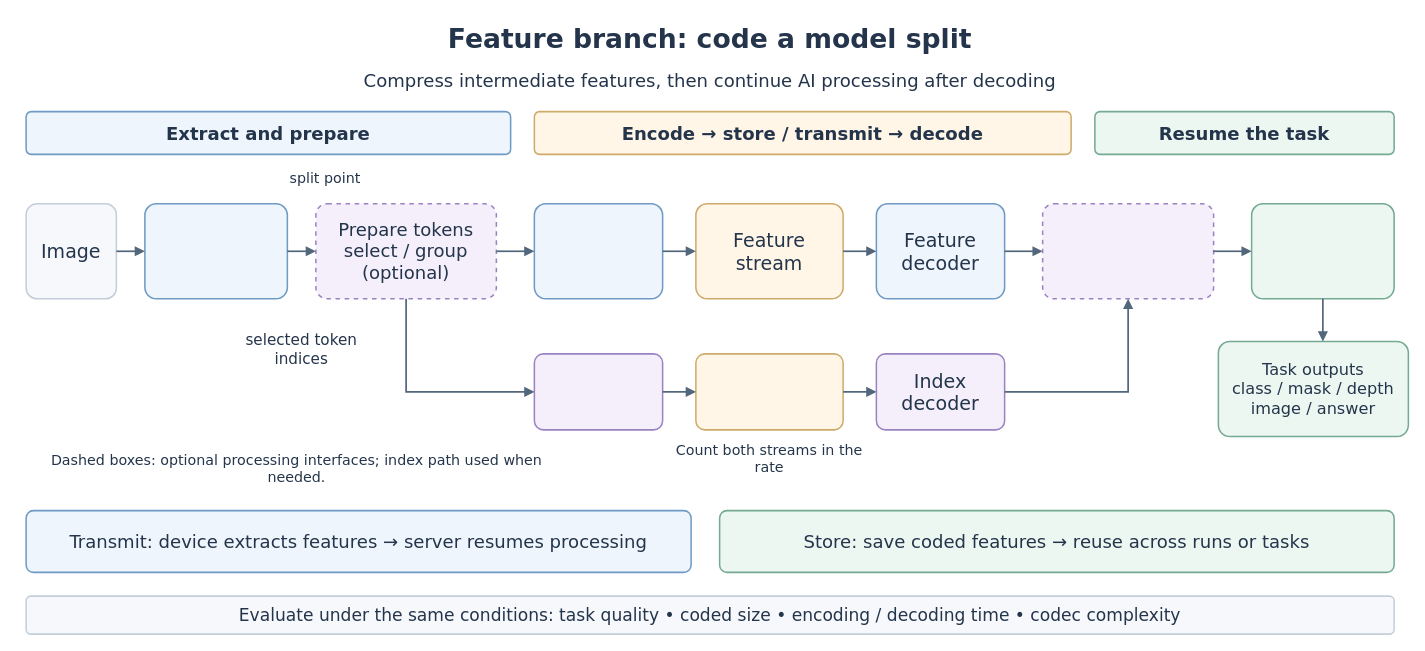
Image size: 1425x651. Some labels were removed from this diagram. The shapes that lost their labels are listed below. From the top down, each one's box as (x1, y1, x2, y2) in pixels, then its label:
(144, 203, 288, 299): Model prefix
(533, 203, 663, 299): Feature encoder
(1041, 203, 1214, 299): Post-process restore / adapt (optional)
(1250, 203, 1394, 299): Model suffix Task module
(533, 353, 663, 430): Index encoder
(695, 353, 843, 430): Index side stream
